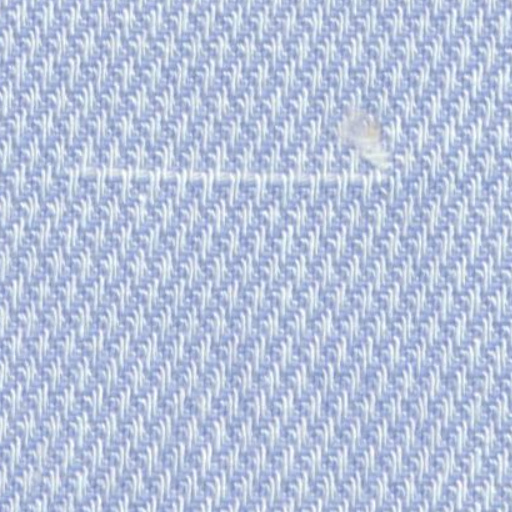DaiSha: (65, 143, 388, 204)
